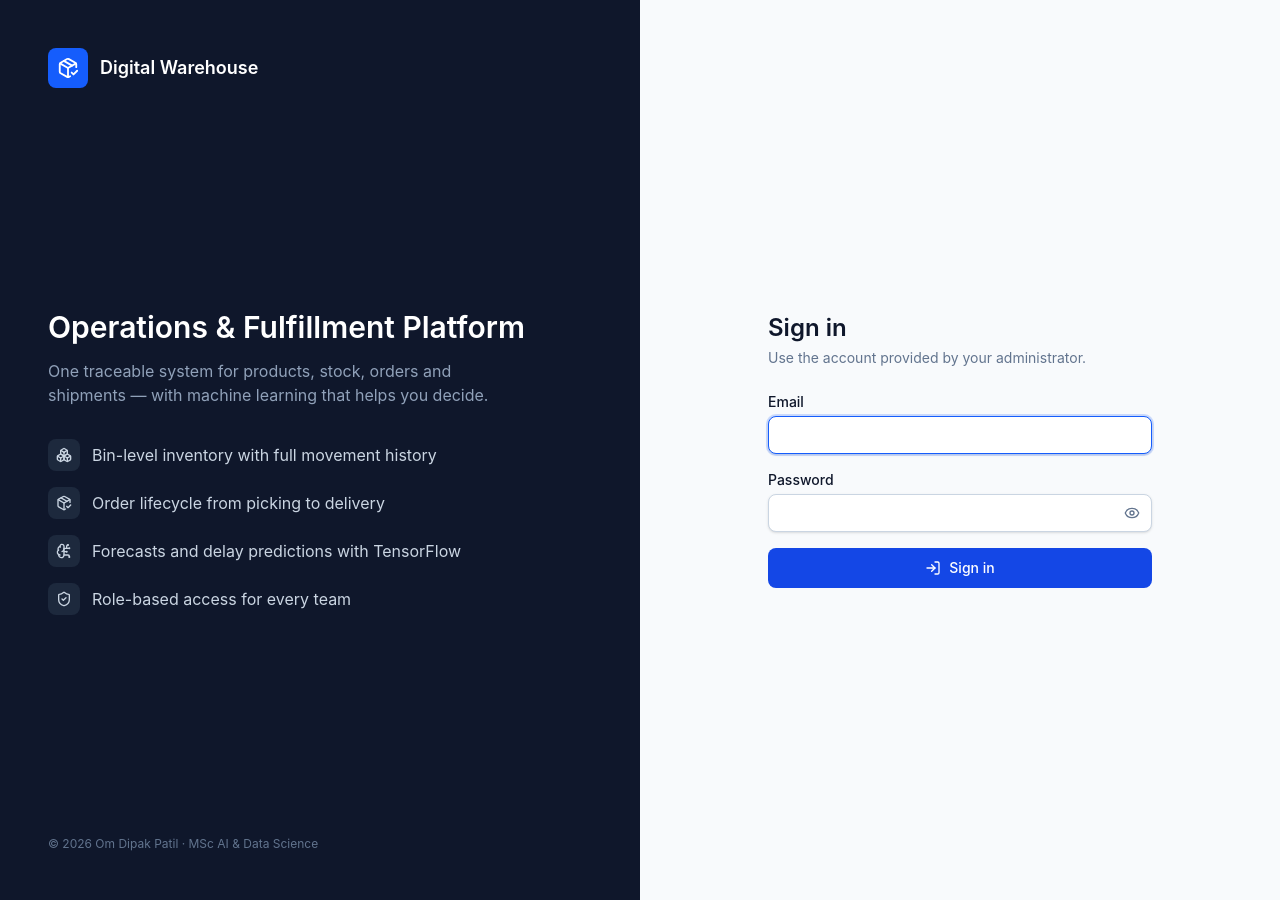
logging in and out › sends visitors to login and back to the page they asked for
Check: the heading "Sign in" is shown, box [768,313,847,342]
Type "manager@example.com" into the field labelled "Email" at x=960, y=435, box [768,416,1152,454]
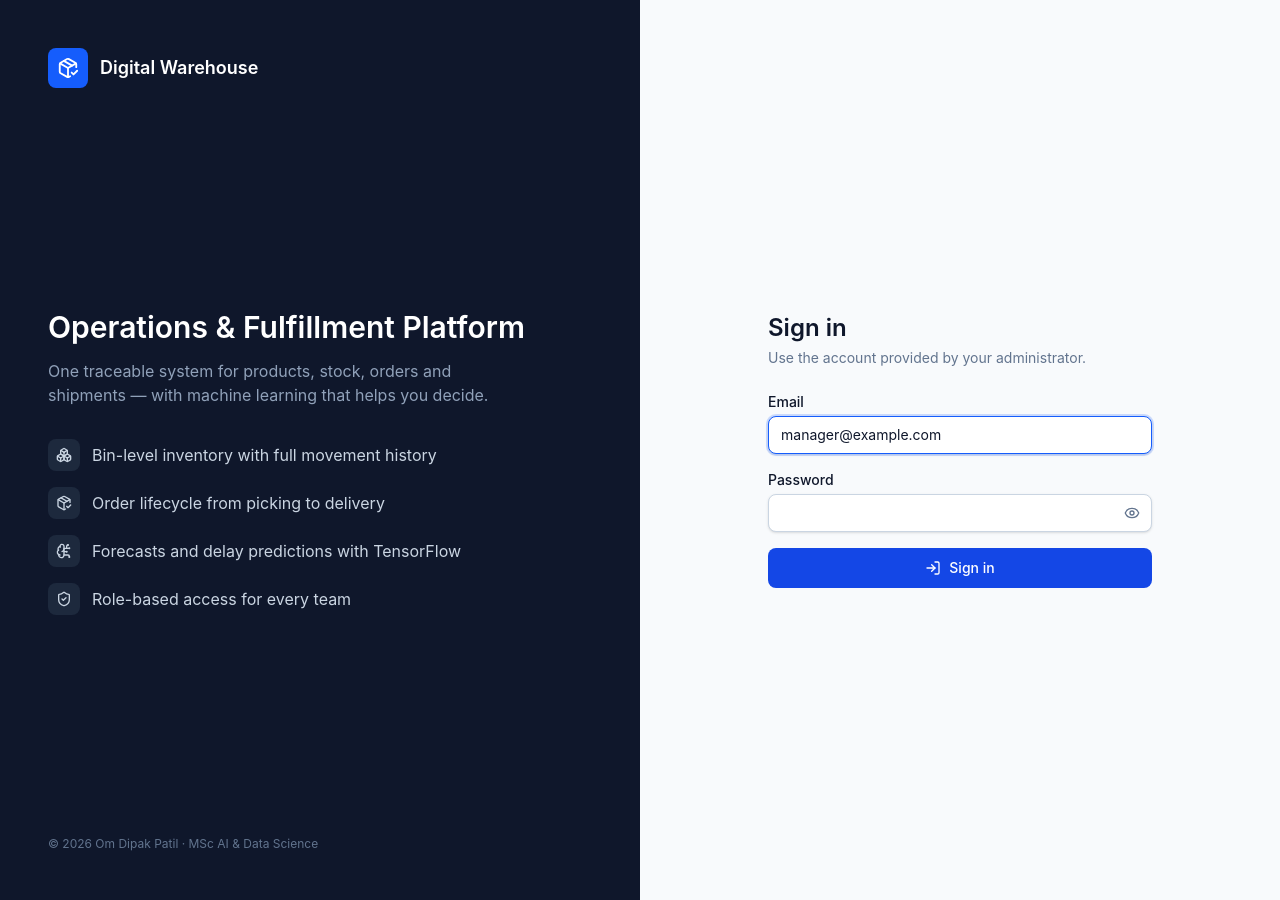
Type "wrong-password" into the password field labelled "Password" at x=960, y=513, box [768,494,1152,532]
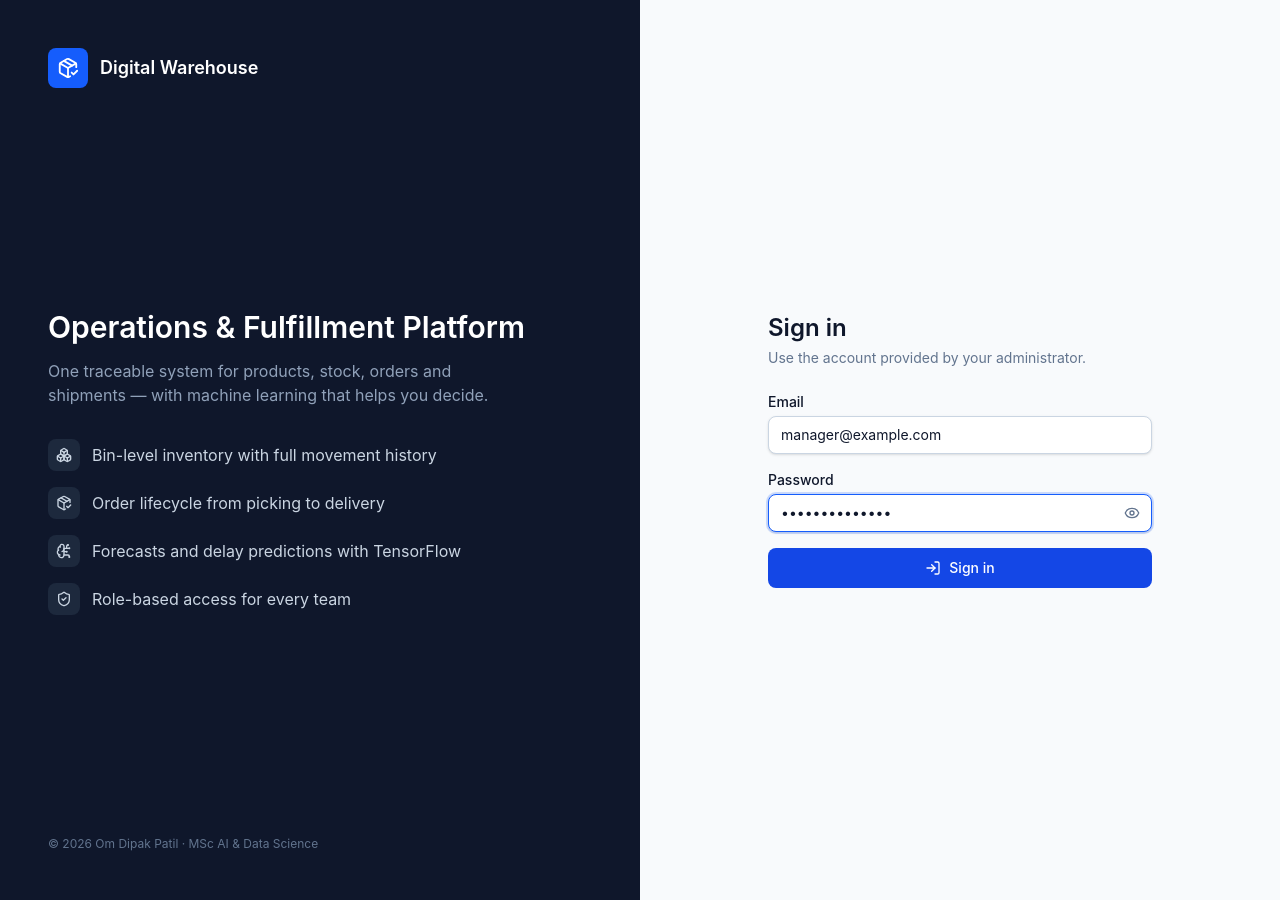
Click the button "Sign in" at x=960, y=568, box [768,548,1152,588]
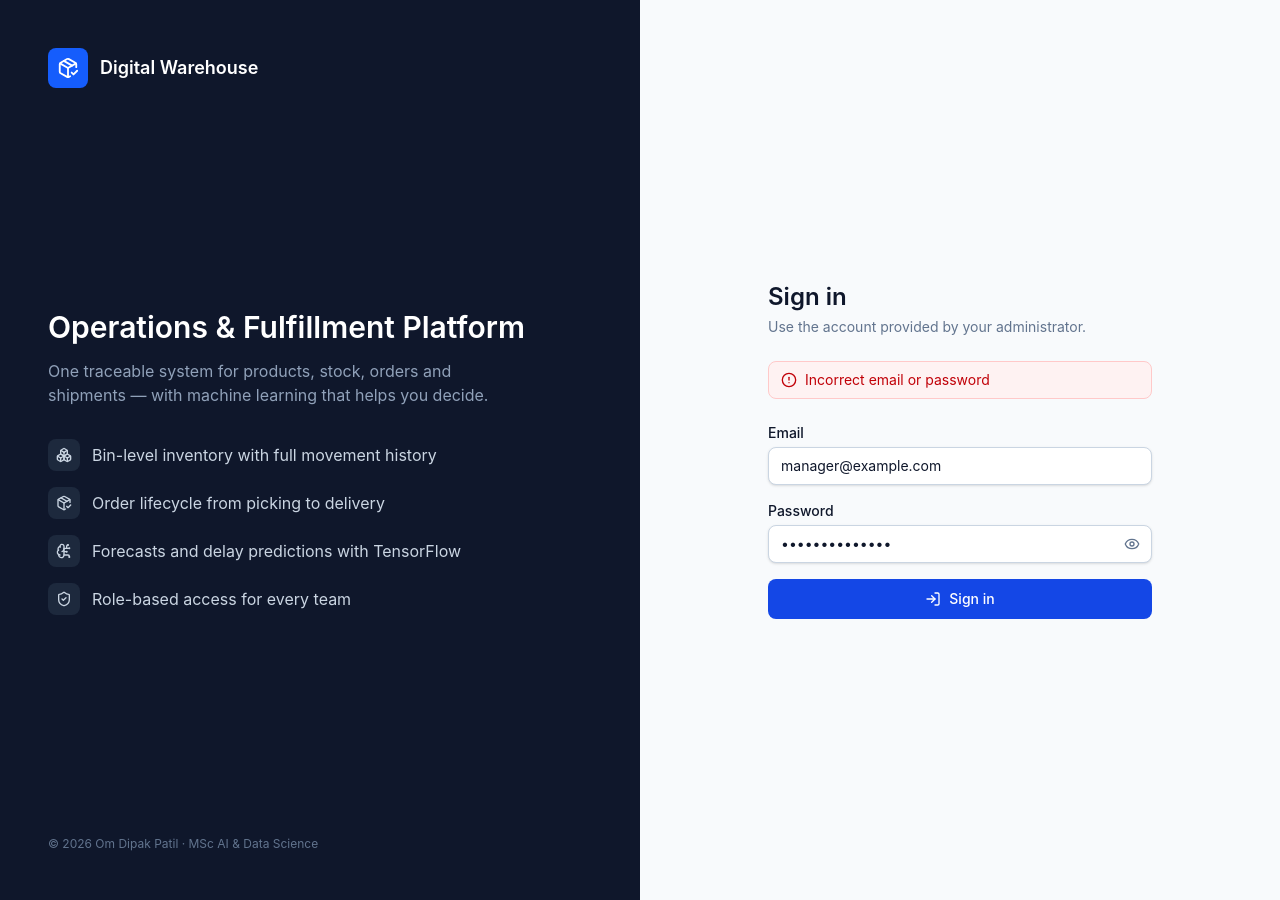
Check: the text "Incorrect email or password" is shown, box [768,361,1152,399]
Clear the password field labelled "Password" at x=960, y=544, box [768,525,1152,563]
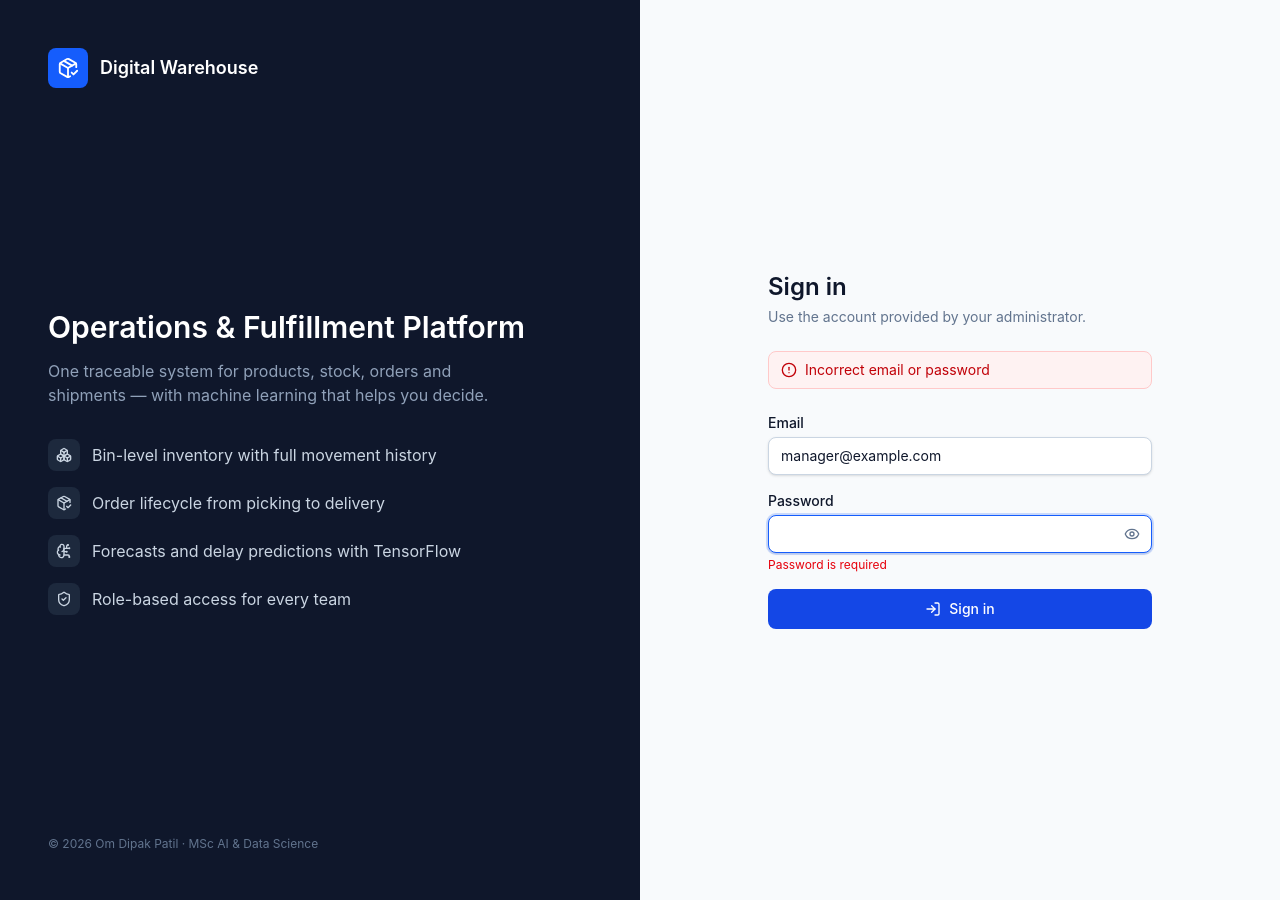
Type "Demo-pass-123" into the password field labelled "Password" at x=960, y=534, box [768,515,1152,553]
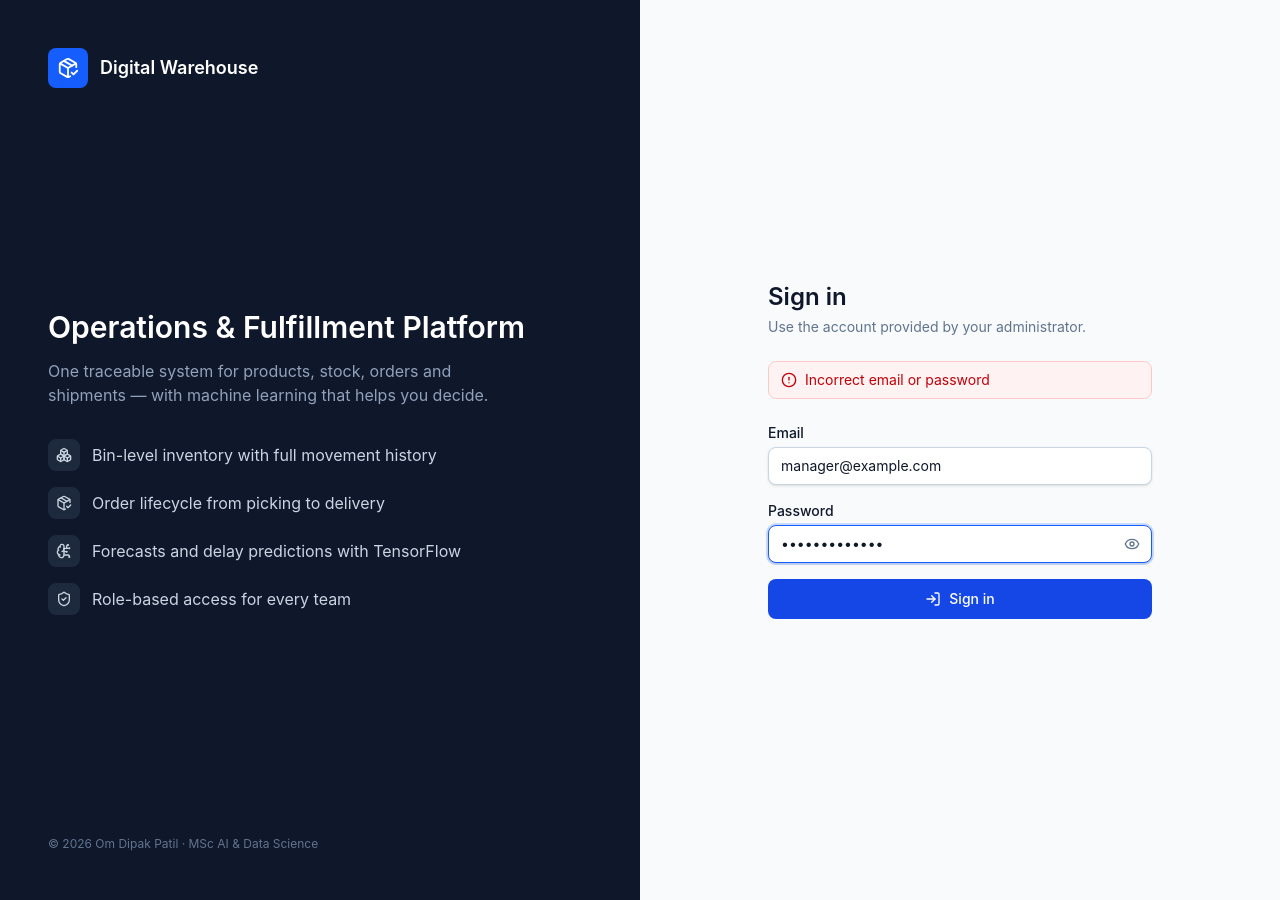
Click the button "Sign in" at x=960, y=599, box [768,579,1152,619]
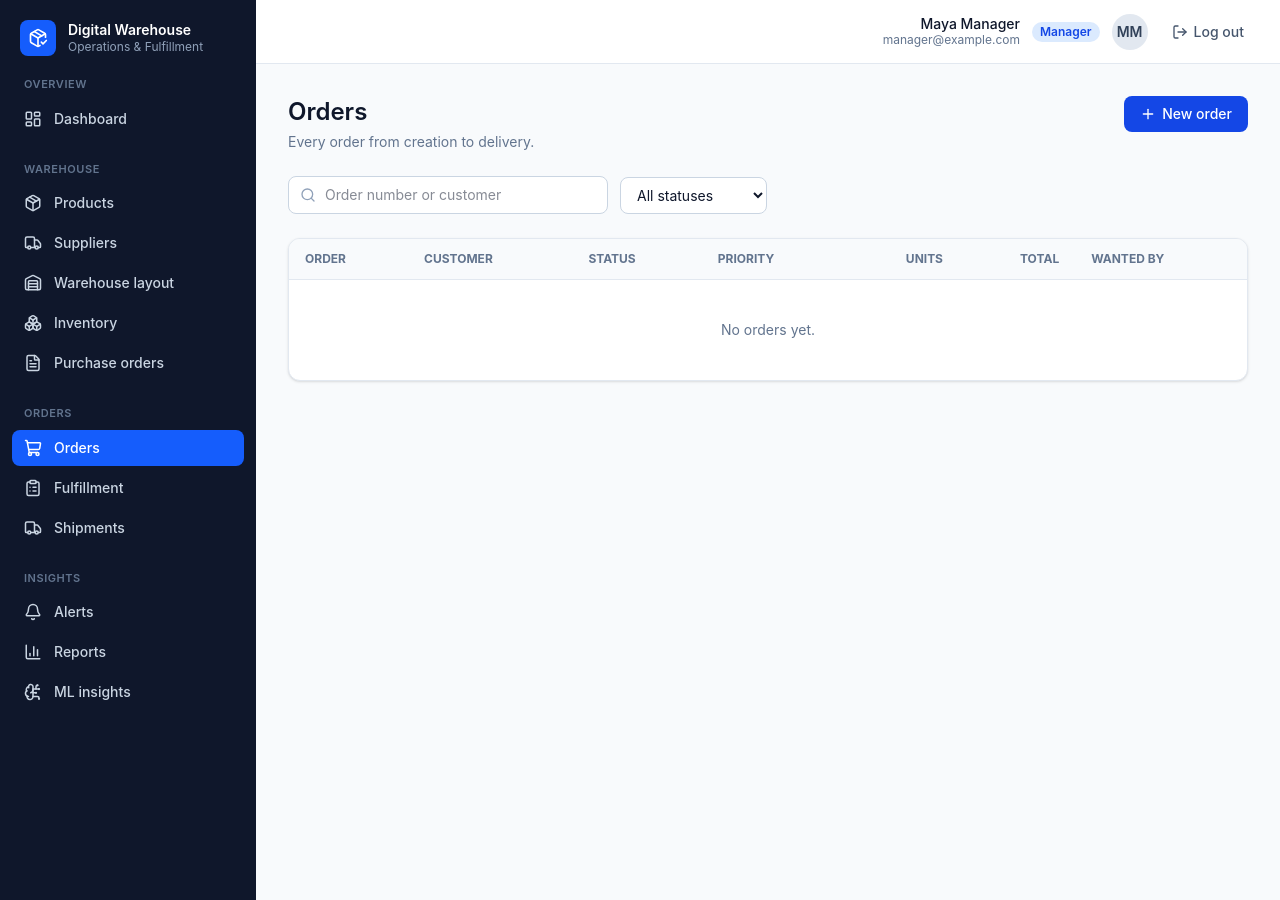
Check: the heading "Orders" is shown, box [288,97,367,126]
